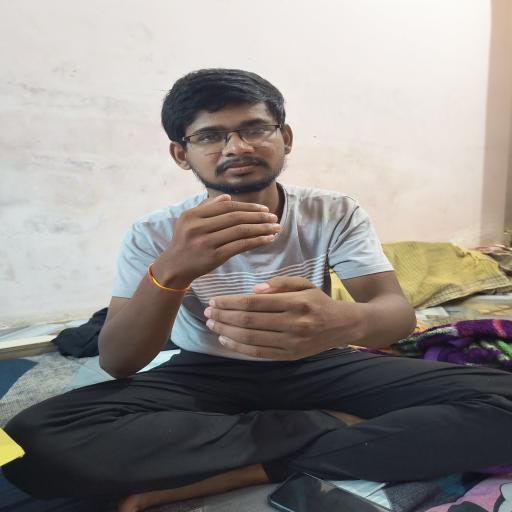Good: (154, 196, 370, 370)
